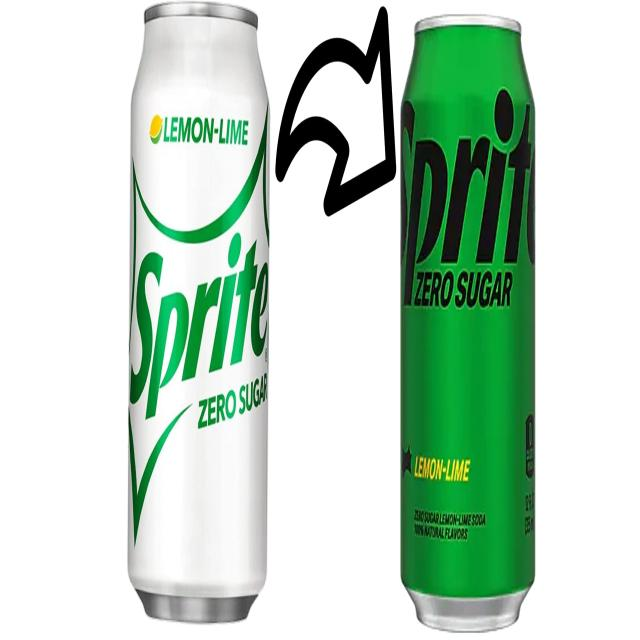sprite: (399, 0, 571, 602)
